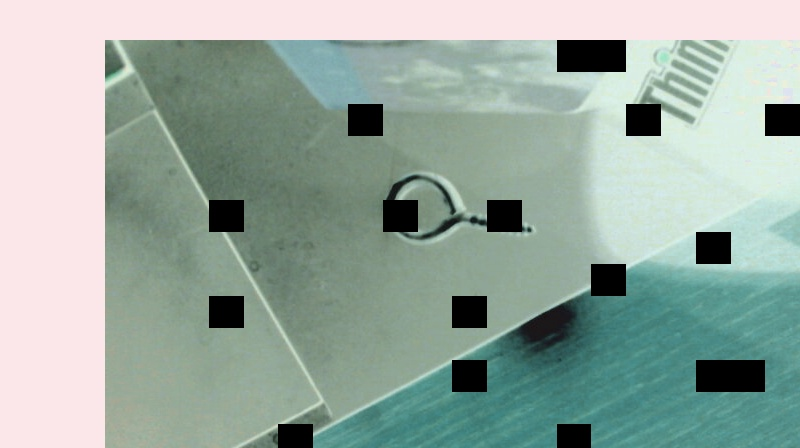O001: (377, 169, 533, 244)
